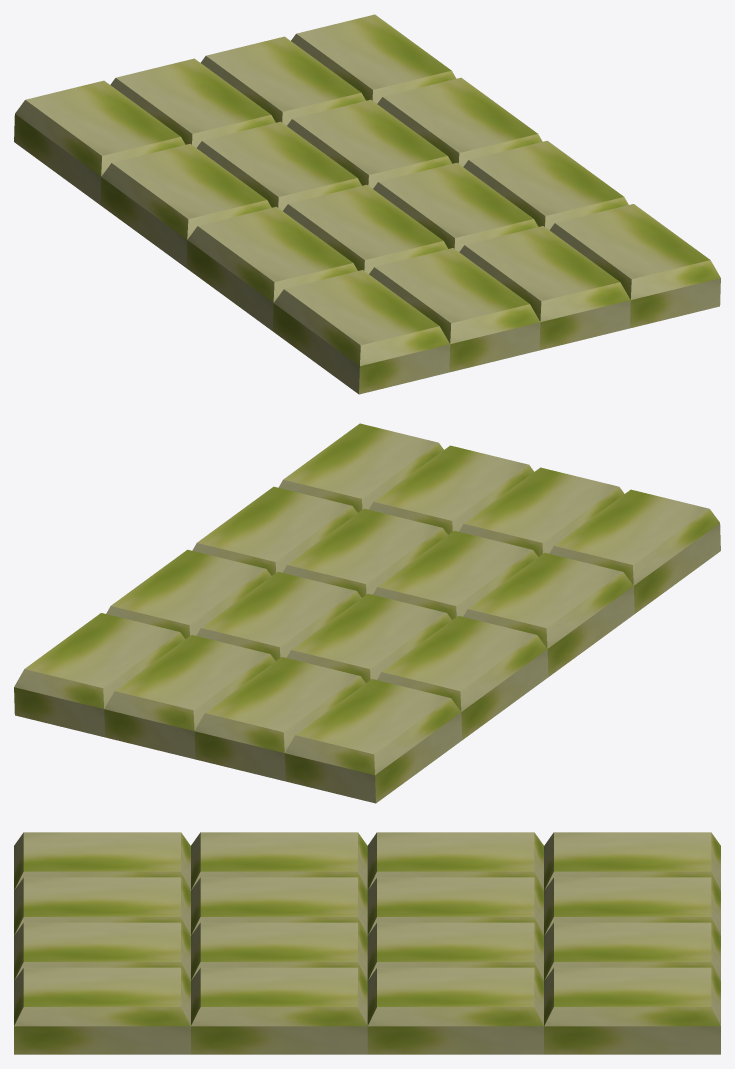
File: PLF0110149.fbx
3 renders of one model, top to bottom at view 1: azimuth 30°, elevation 25°; view 2: azimuth 150°, elevation 25°; view 3: azimuth 270°, elevation 25°, orthographic. The views are drawn at different scales.
Visible parts, largest first — view 1: smPLF0110149; view 2: smPLF0110149; view 3: smPLF0110149.
Boxes of the visible parts, x1,y1,x2,y2 form: smPLF0110149: [14, 14, 720, 394]; smPLF0110149: [14, 423, 720, 803]; smPLF0110149: [14, 832, 720, 1054].
Bounding box in the file's own units: 163 × 18.96 × 269.
